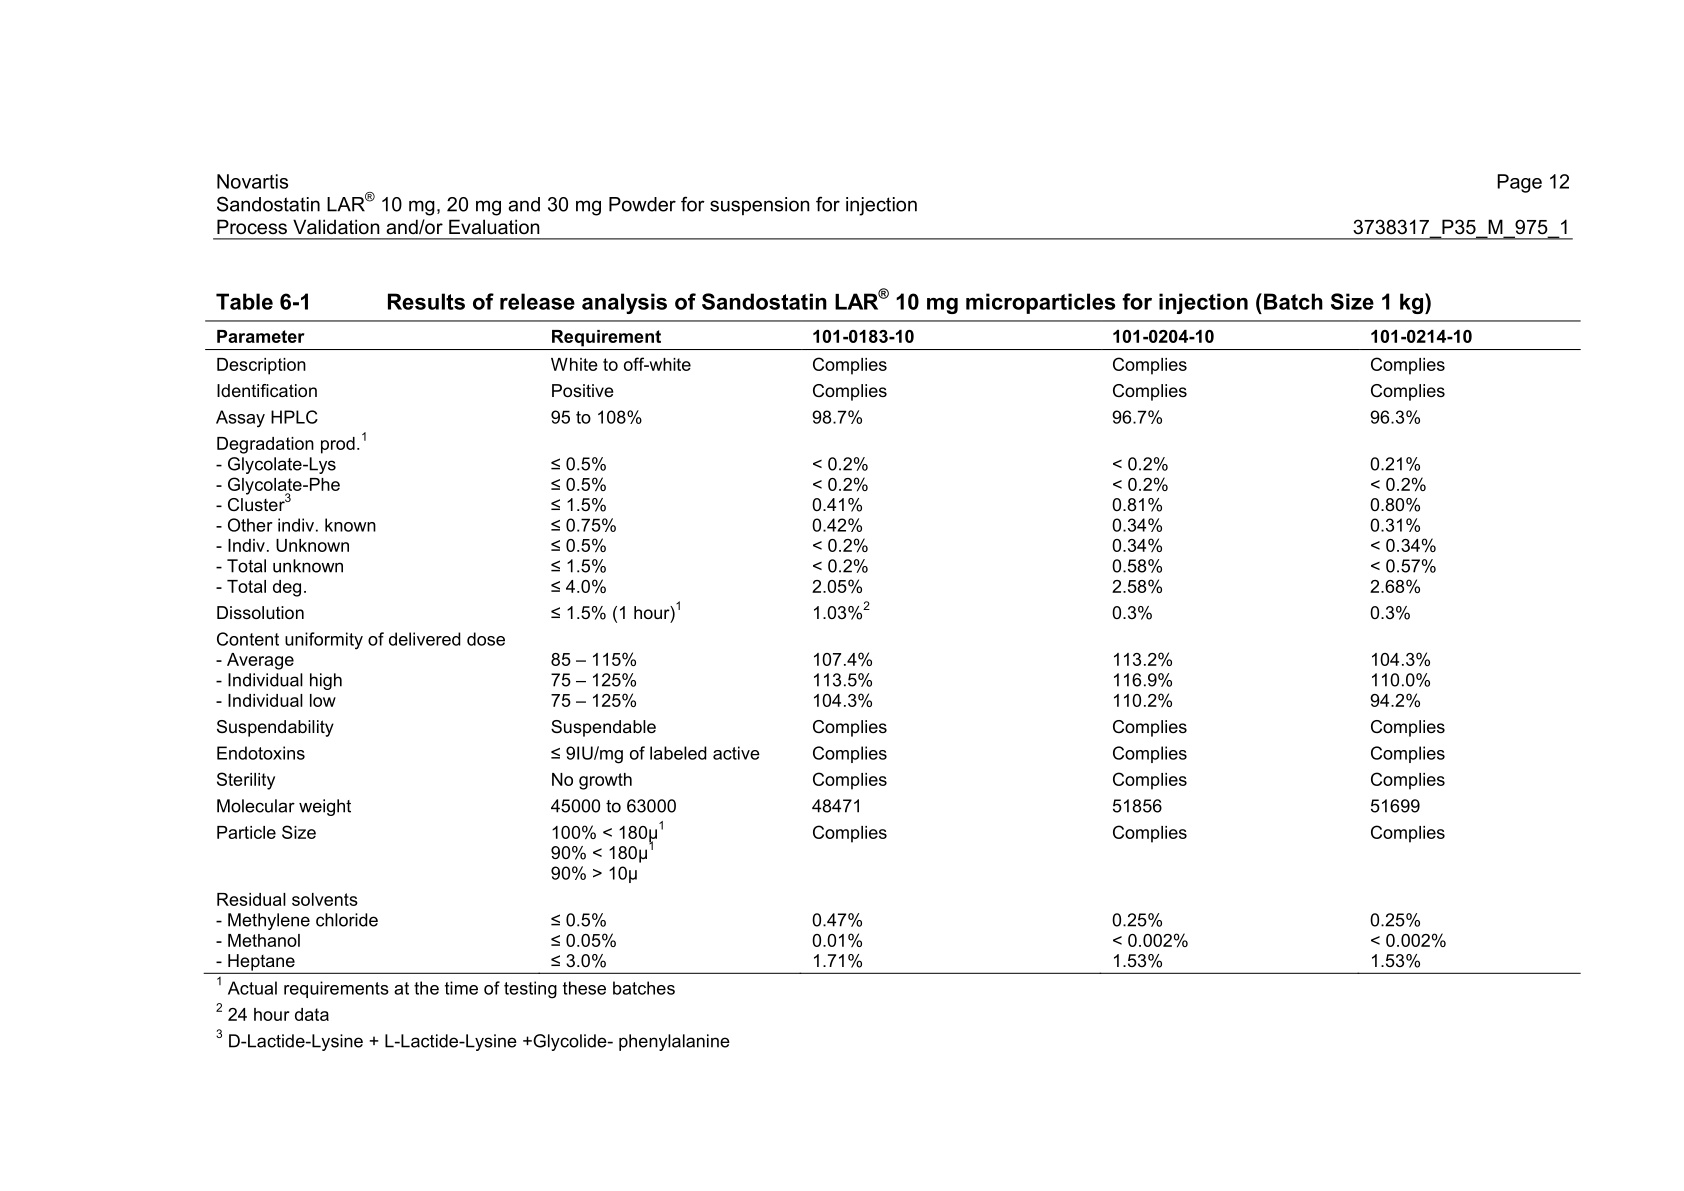partial_lined: (205, 318, 1586, 974)
